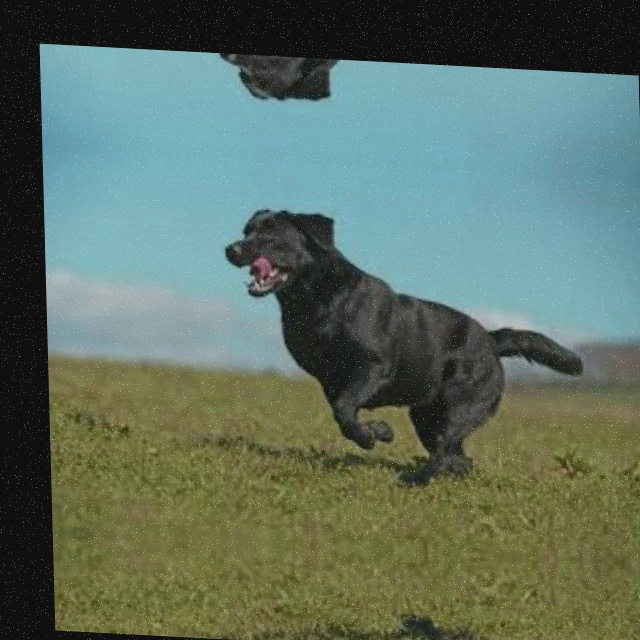dog: (214, 197, 599, 492), (211, 53, 590, 125), (226, 611, 604, 640)
